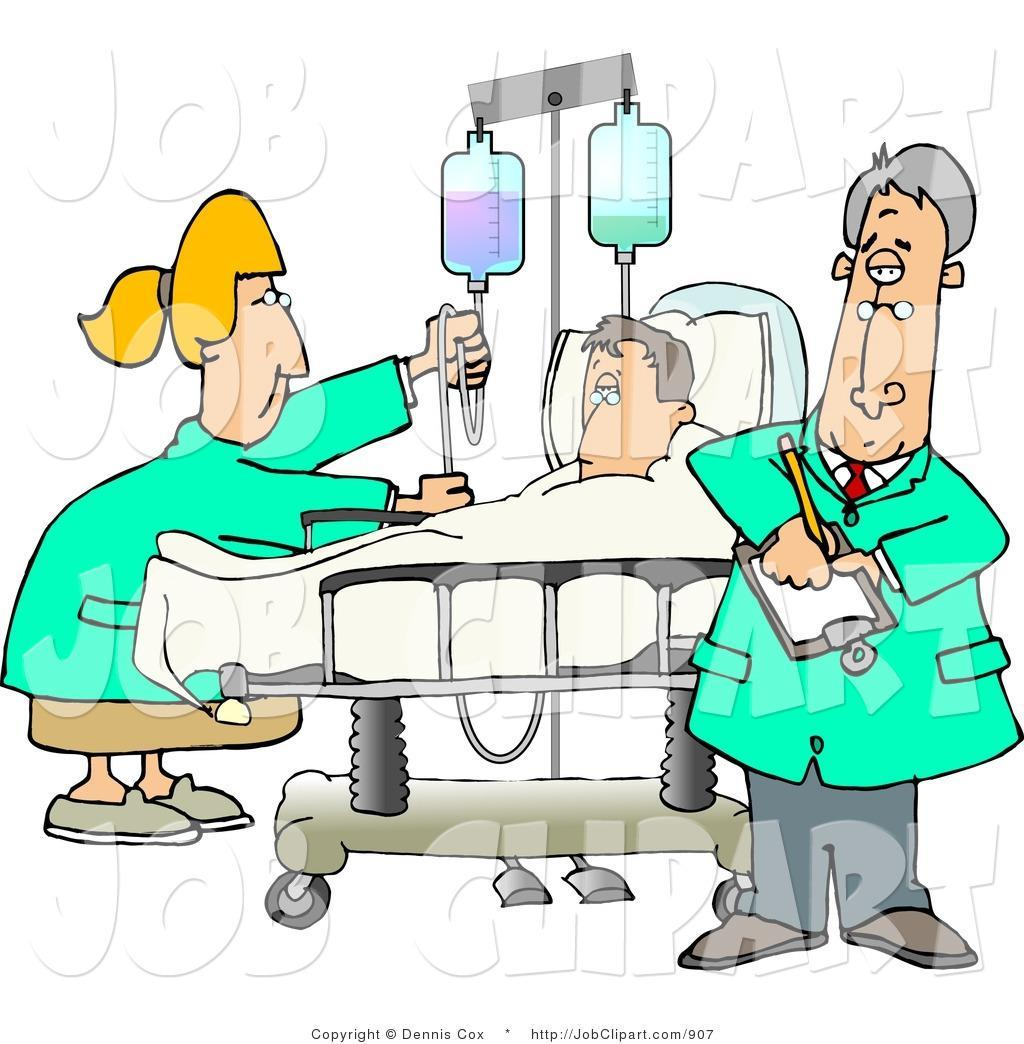person: (2, 183, 485, 851), (684, 126, 1024, 974), (572, 313, 697, 492)
